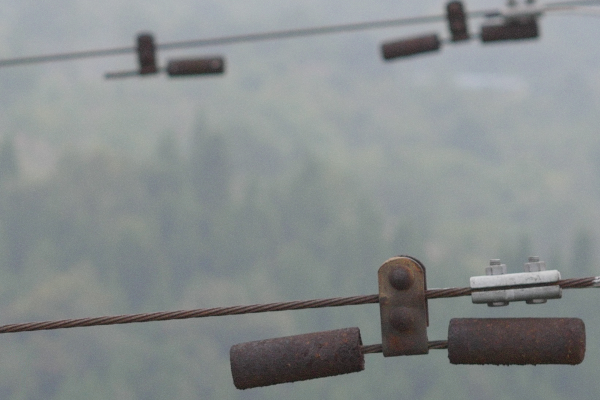damper: (223, 249, 589, 394), (376, 1, 544, 64)
damper_defect: (99, 27, 226, 81)
